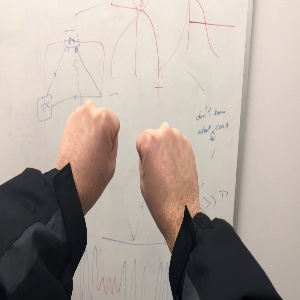hand: (58, 100, 120, 189), (136, 123, 200, 201)
